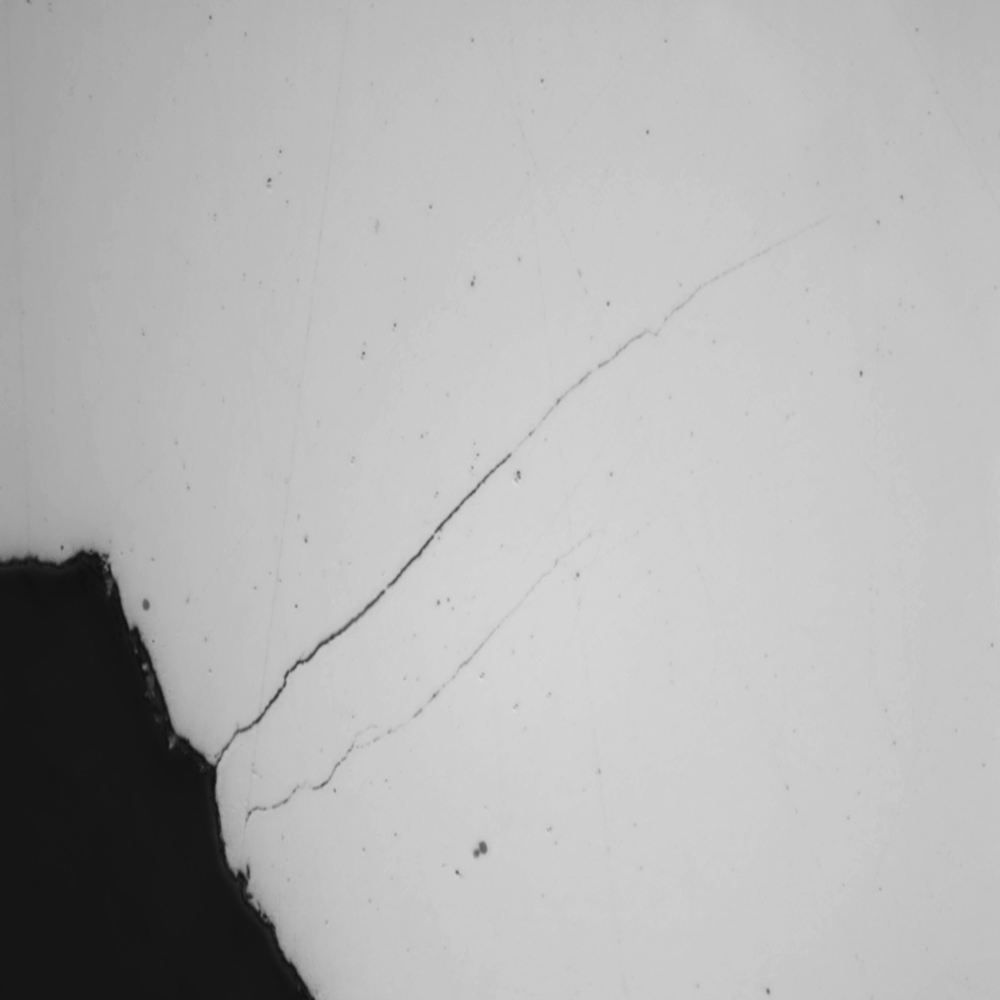crack: (188, 186, 875, 842)
